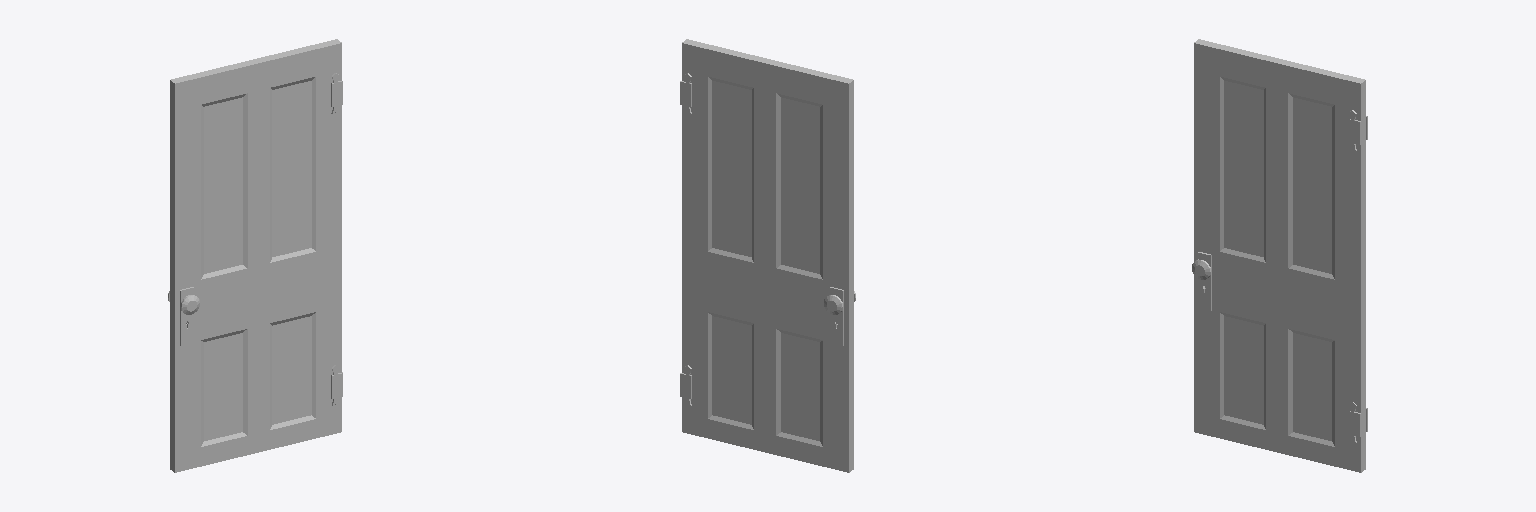
File: In Door.obj
3 views of the same model, side by side, from view 1: azimuth 30°, elevation 25°; view 2: azimuth 150°, elevation 25°; view 3: azimuth 330°, elevation 25° (orthographic).
Parts seen in each view (by area): view 1: Mesh7 Model, Mesh1 Group1 Model; view 2: Mesh7 Model, Mesh2 Group2 Model; view 3: Mesh7 Model, Mesh1 Group1 Model.
Part boxes in pixels (bbox=[...]): Mesh7 Model: bbox=[170, 39, 341, 472]; Mesh1 Group1 Model: bbox=[180, 287, 199, 345]; Mesh7 Model: bbox=[682, 39, 853, 472]; Mesh2 Group2 Model: bbox=[824, 287, 843, 345]; Mesh7 Model: bbox=[1194, 39, 1365, 472]; Mesh1 Group1 Model: bbox=[1192, 252, 1211, 310].
Size of the model in its own units: 0.9 by 2 by 0.15.